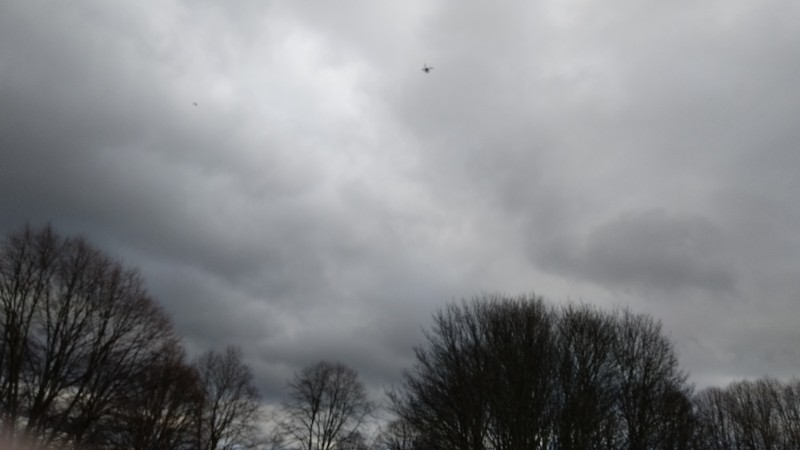drone: (421, 64, 435, 75)
